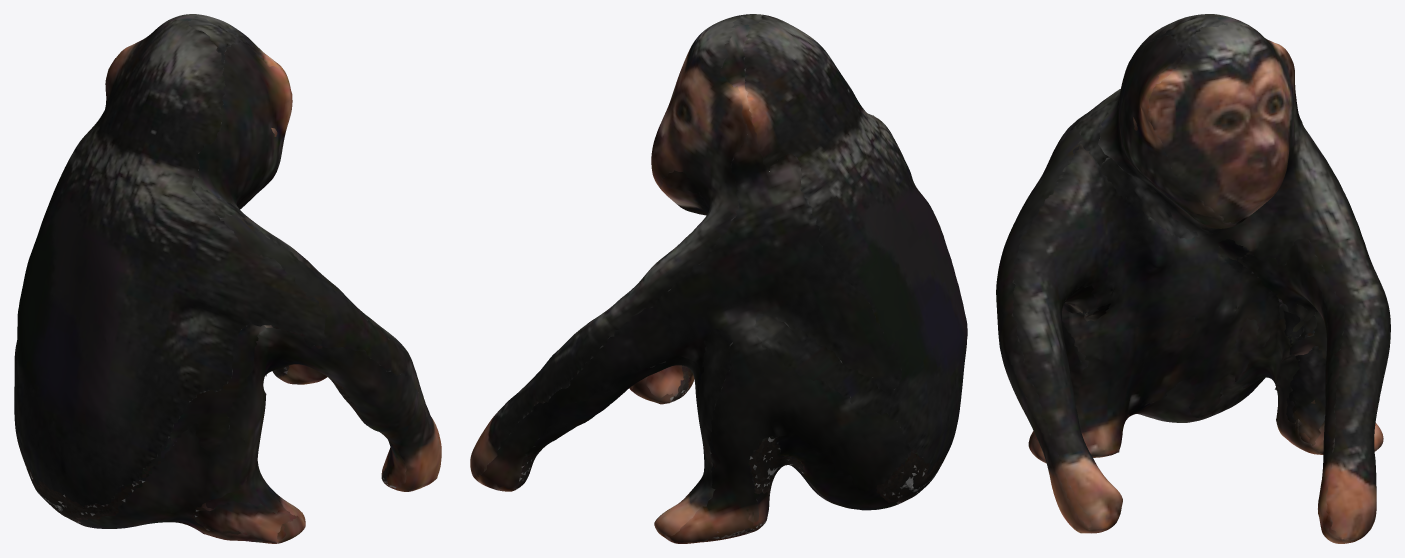
Rendered from model_Ape_20171119_172911386.gltf.
The picture shows the model from 3 angles, left to right: view 1: azimuth 30°, elevation 25°; view 2: azimuth 150°, elevation 25°; view 3: azimuth 270°, elevation 25°; orthographic projection. The views are drawn at different scales.
Parts seen in each view (by area): view 1: node-0; view 2: node-0; view 3: node-0.
Boxes of the visible parts, x1=… form: node-0: x1=14, y1=14, x2=441, y2=543; node-0: x1=470, y1=14, x2=967, y2=543; node-0: x1=996, y1=14, x2=1390, y2=543.
Bounding box in the file's own units: 55.64 × 62.94 × 51.28.
Materials: 1 (1 with a texture image).
